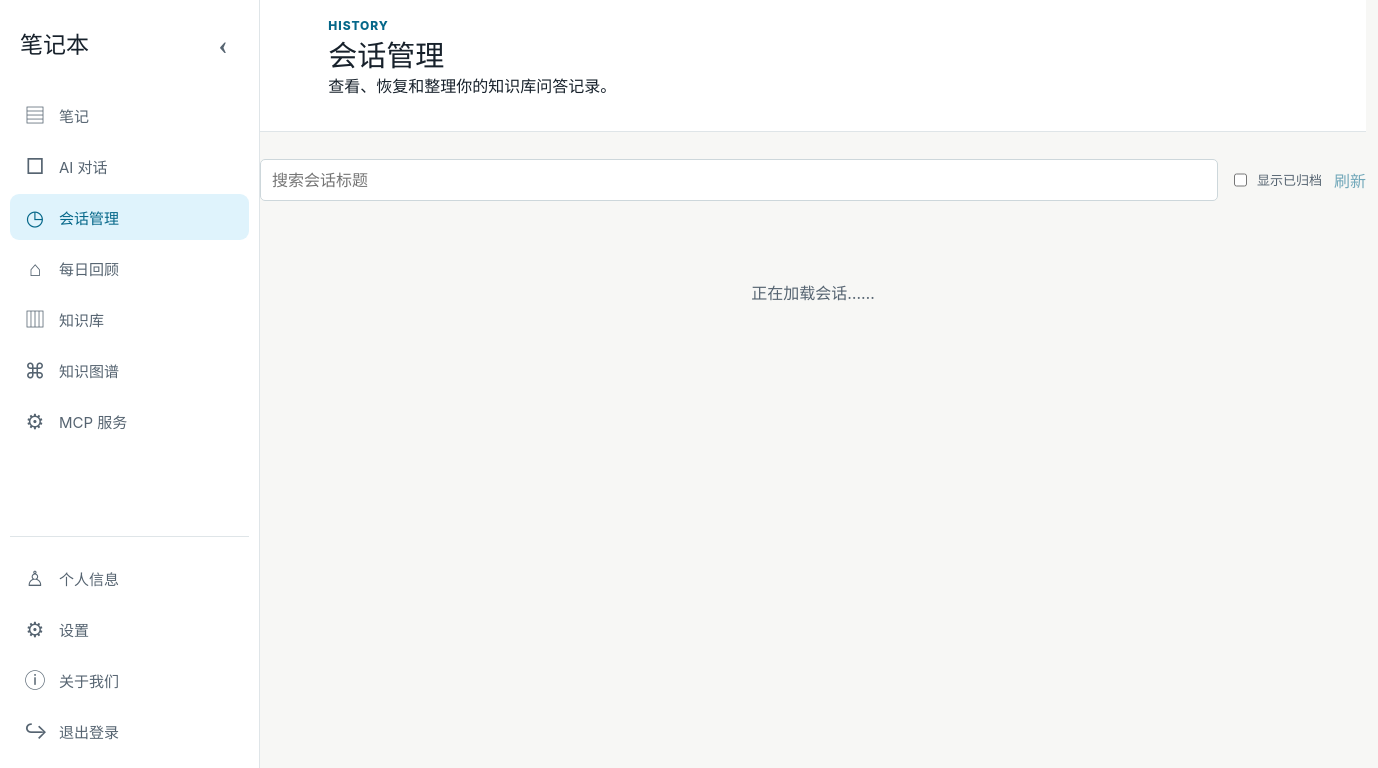
Test case: SessionsPage › does not let an older search response replace newer results
Step 1. Type "新搜索" into the field labelled "搜索会话标题" → (739, 180), box [260, 159, 1218, 201]
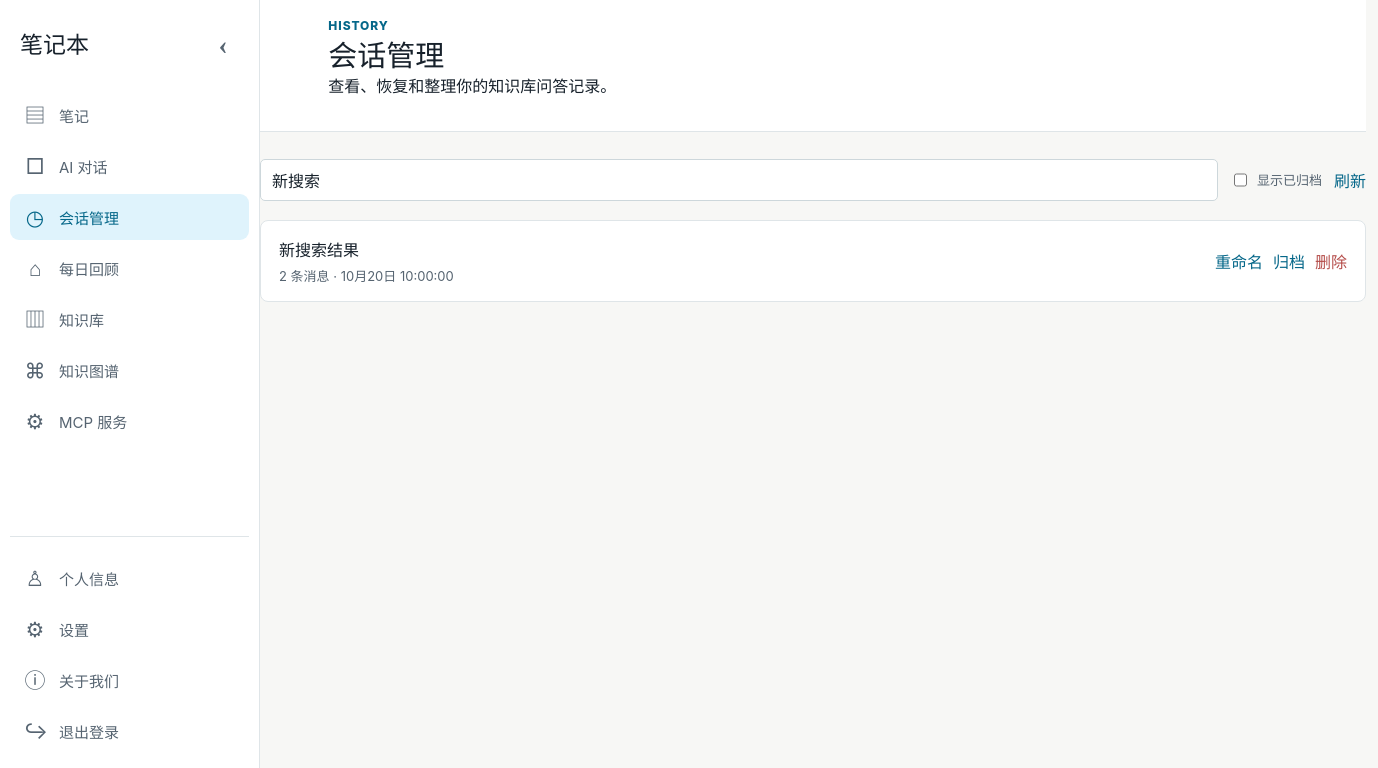
Check: the button "新搜索结果 2 条消息 · 10月20日 10:00:00" is shown, box [279, 237, 1199, 285]
